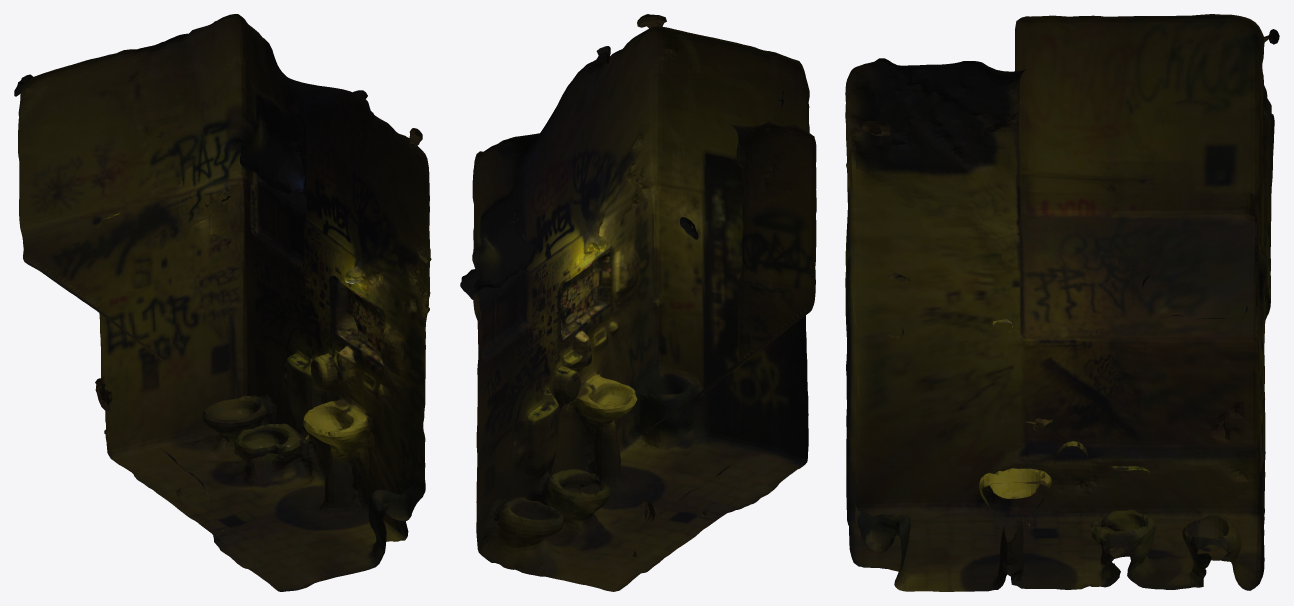
The picture shows the model from 3 angles, left to right: view 1: azimuth 30°, elevation 25°; view 2: azimuth 150°, elevation 25°; view 3: azimuth 270°, elevation 25°; orthographic projection. The views are drawn at different scales.
Size of the model in its own units: 2.26 by 3.53 by 2.9.
1 material, 1 textured.
